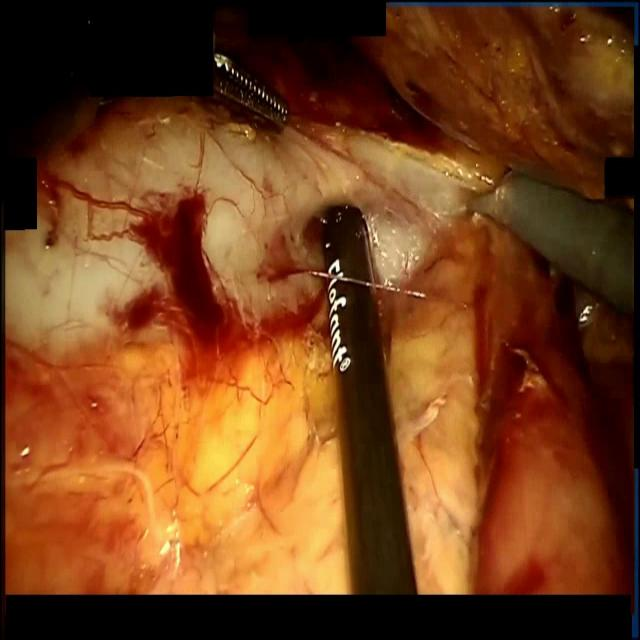surgical-area: (4, 4, 634, 596)
surgical-tool: (322, 204, 417, 595), (464, 170, 634, 313), (214, 52, 288, 127)
